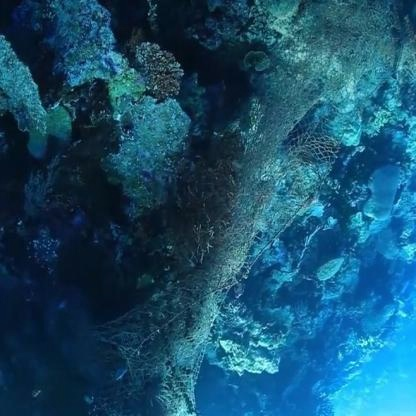net: (150, 81, 315, 385)
